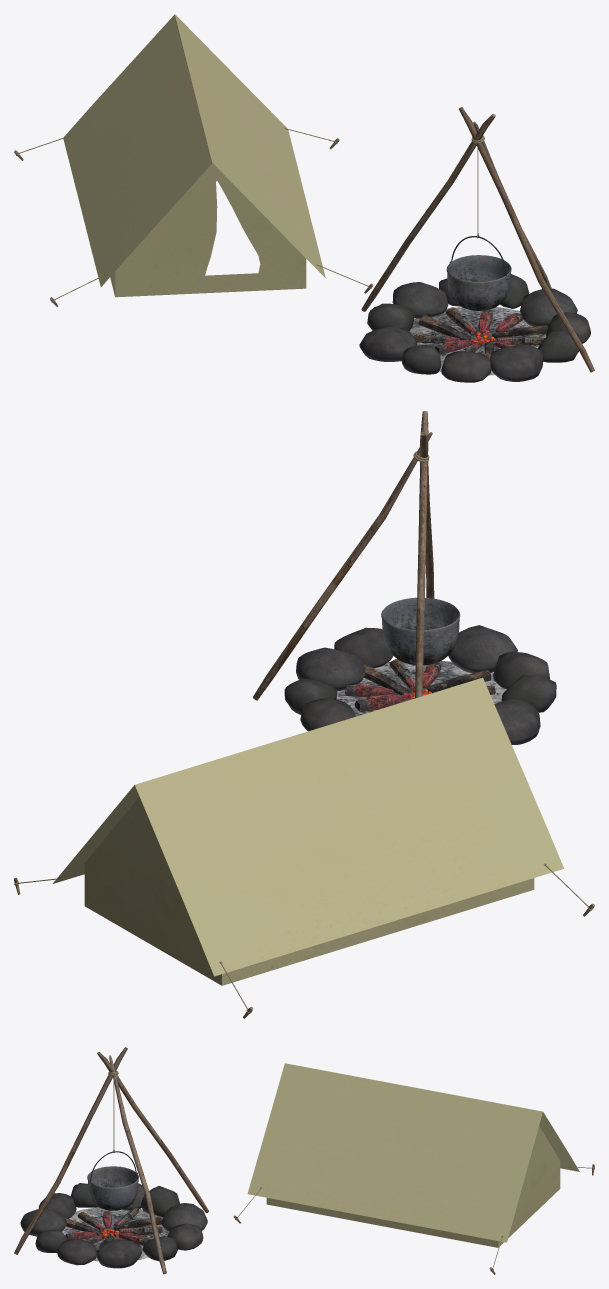
The model's file is Campfire.obj.
3 views of the same model, one above another, from view 1: azimuth 30°, elevation 25°; view 2: azimuth 150°, elevation 25°; view 3: azimuth 270°, elevation 25° (orthographic). The views are drawn at different scales.
Parts seen in each view (by area): view 1: camp_Untitled.001, Rocks_Untitled.004, woods_and_ground_Untitled.005, utensil_and_rope_Untitled.003; view 2: camp_Untitled.001, Rocks_Untitled.004, woods_and_ground_Untitled.005, utensil_and_rope_Untitled.003; view 3: camp_Untitled.001, Rocks_Untitled.004, woods_and_ground_Untitled.005, utensil_and_rope_Untitled.003.
Boxes of the visible parts, left/top/right/bottom form: camp_Untitled.001: left=63, top=14, right=325, bottom=297; Rocks_Untitled.004: left=359, top=274, right=590, bottom=382; woods_and_ground_Untitled.005: left=361, top=107, right=594, bottom=375; utensil_and_rope_Untitled.003: left=446, top=135, right=511, bottom=310; camp_Untitled.001: left=52, top=677, right=563, bottom=985; Rocks_Untitled.004: left=284, top=625, right=556, bottom=744; woods_and_ground_Untitled.005: left=253, top=411, right=506, bottom=716; utensil_and_rope_Untitled.003: left=381, top=451, right=460, bottom=665; camp_Untitled.001: left=247, top=1063, right=579, bottom=1247; Rocks_Untitled.004: left=20, top=1183, right=207, bottom=1268; woods_and_ground_Untitled.005: left=14, top=1047, right=208, bottom=1274; utensil_and_rope_Untitled.003: left=87, top=1071, right=138, bottom=1210.
Size of the model in its own units: 0.4029 by 0.2337 by 0.6499.
4 materials, 4 textured.
